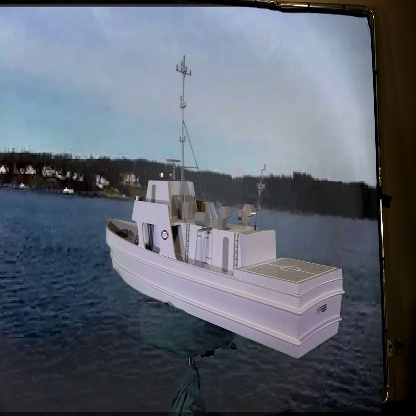YP689: (104, 55, 345, 361)
